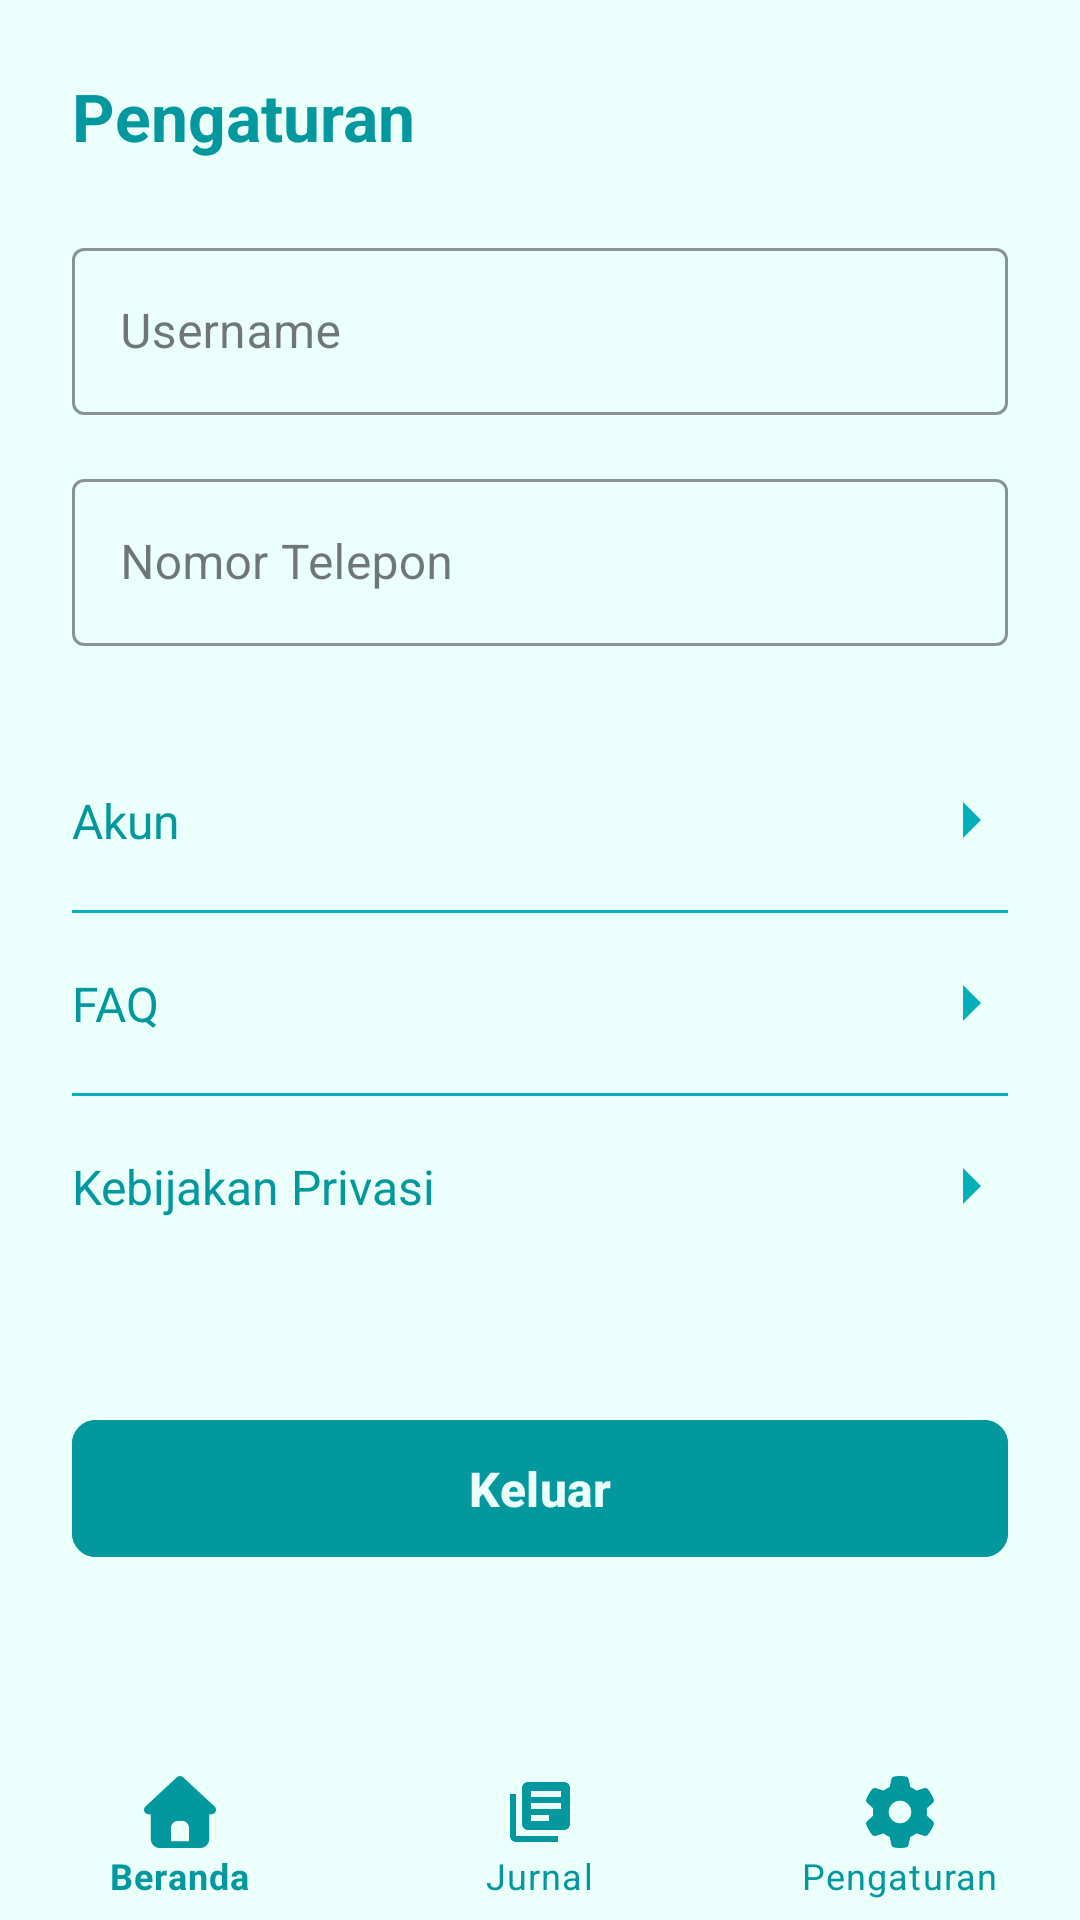

Icon click points for this 1080 × 1920 phone screenshot, format point (x, y):
Next: point (972, 820), point (972, 1003), point (972, 1186)
